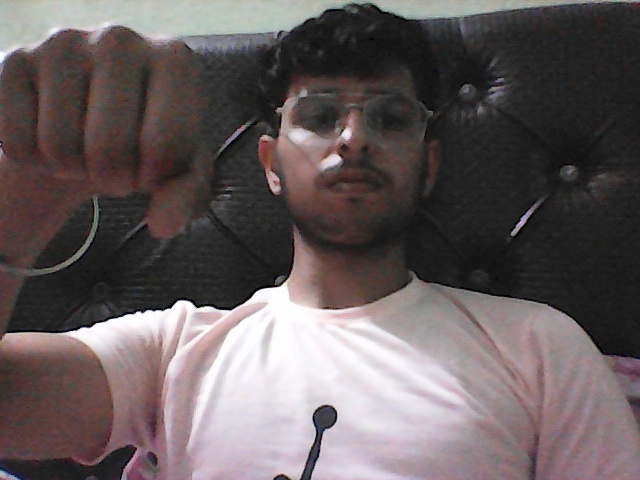yes: (1, 18, 227, 256)
